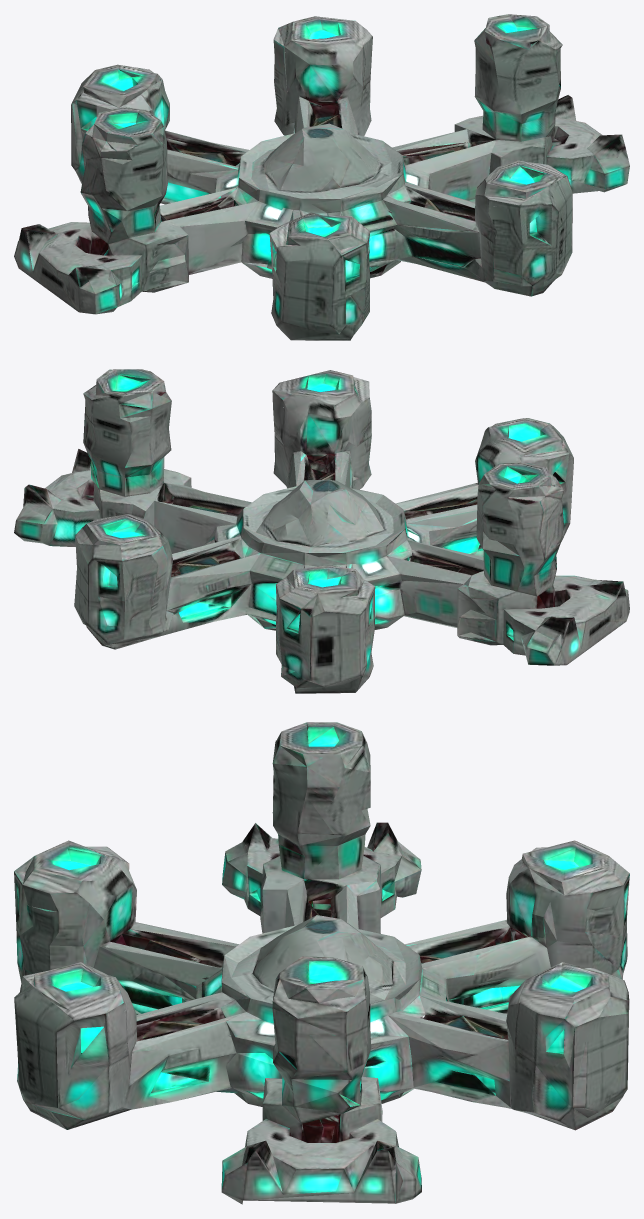
Rendered from nation-k-fortress.glb.
3 renders of one model, top to bottom at view 1: azimuth 30°, elevation 25°; view 2: azimuth 150°, elevation 25°; view 3: azimuth 270°, elevation 25°, orthographic. The views are drawn at different scales.
Bounding box in the file's own units: 1.9 × 0.5955 × 1.5.
Materials: 1 (1 with a texture image).
